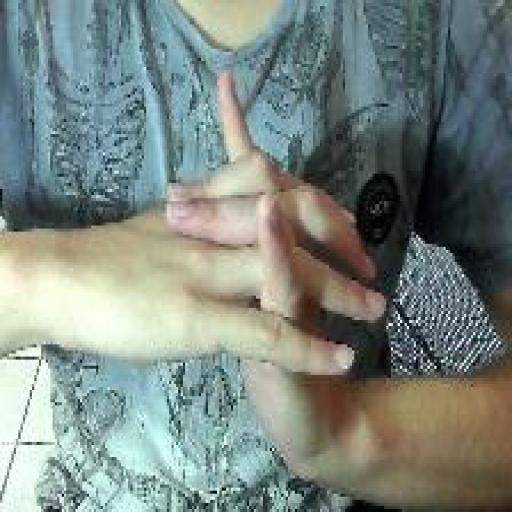Ushi -ox-: (161, 66, 390, 495)
